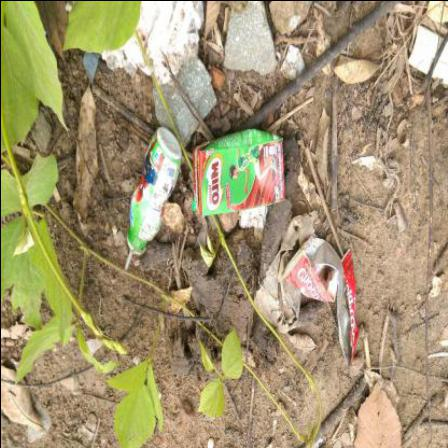Bottle: (127, 127, 182, 253)
Carton: (191, 130, 285, 217)
Plastic bag - wrapper: (281, 236, 359, 368)
Straw: (125, 251, 133, 270)
Unlabeled litter: (102, 2, 206, 88), (254, 210, 320, 333), (238, 206, 268, 232)
